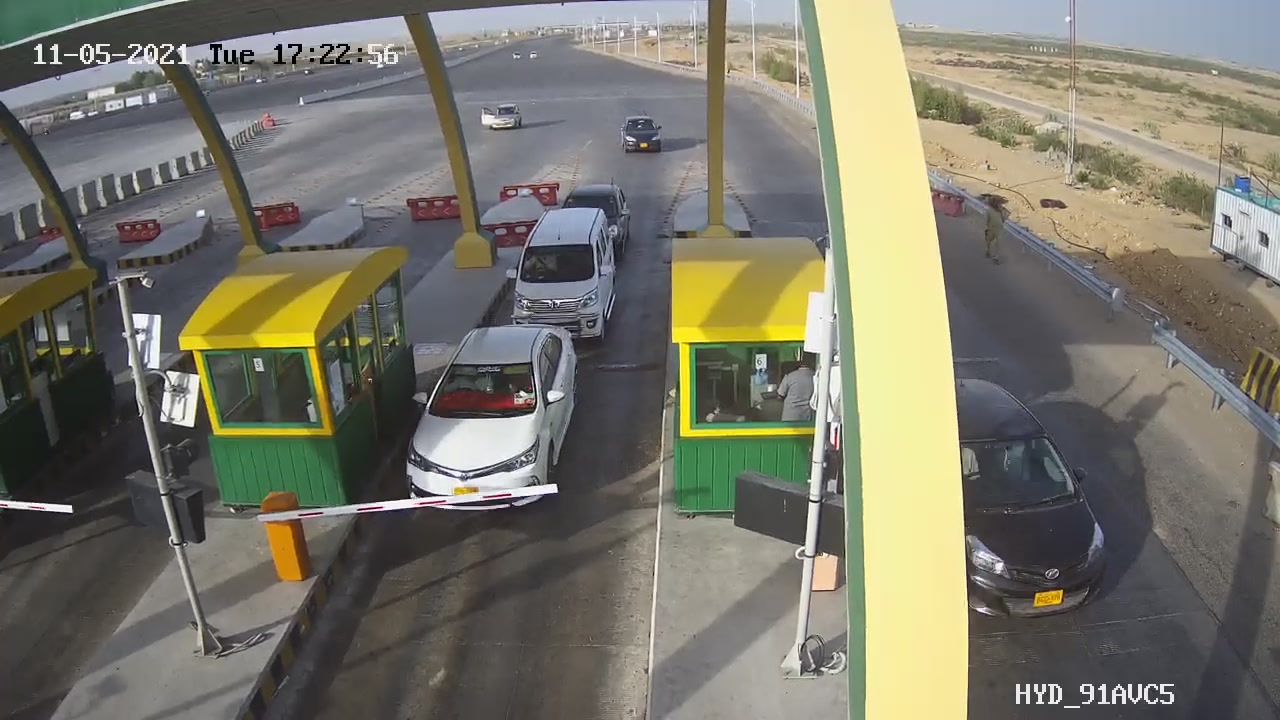F1: (387, 309, 601, 524)
